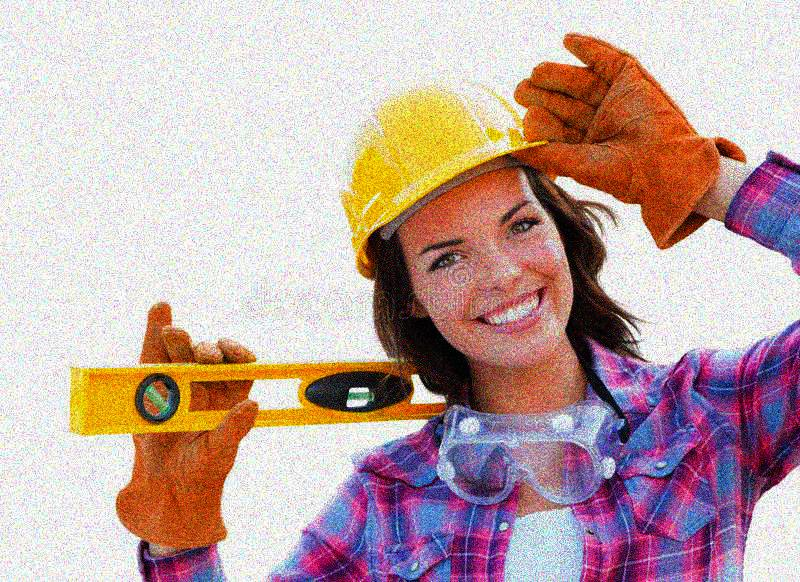helmet: (339, 75, 577, 374)
